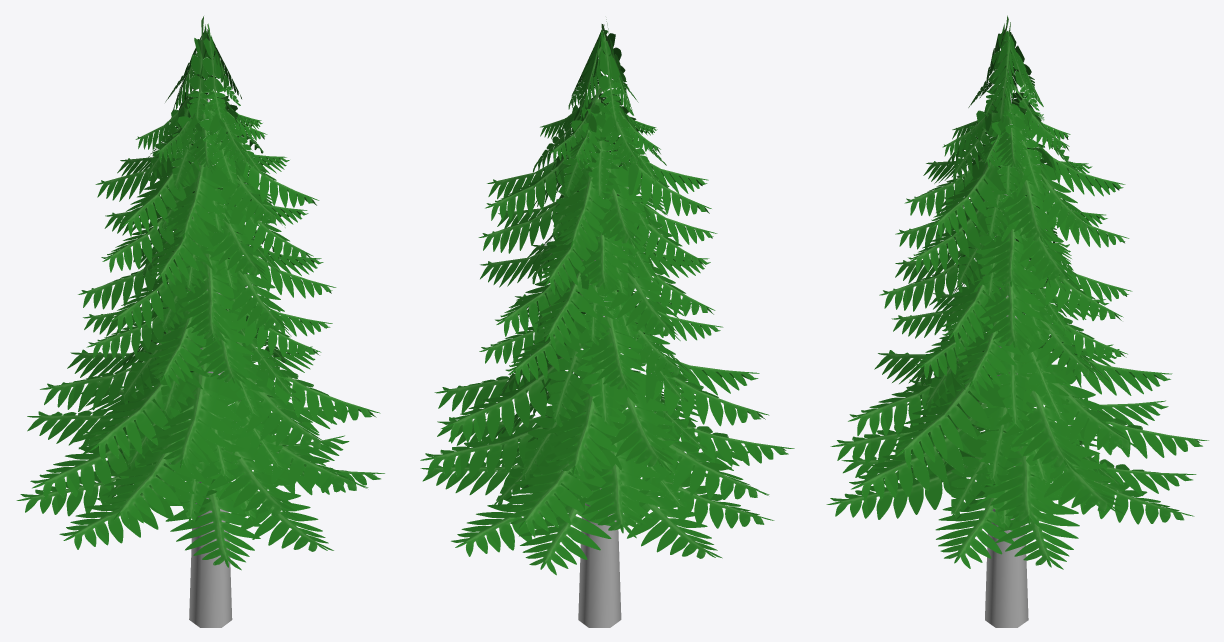
Rendered from PineTree.fbx.
3 renders of one model, left to right at view 1: azimuth 30°, elevation 25°; view 2: azimuth 150°, elevation 25°; view 3: azimuth 270°, elevation 25°, orthographic.
Parts seen in each view (by area): view 1: PineLeaves_LOD0, PineTree; view 2: PineLeaves_LOD0, PineTree; view 3: PineLeaves_LOD0, PineTree.
Part boxes in pixels (box(x1,y1,x2,y2)): PineLeaves_LOD0: box(16, 16, 384, 570); PineTree: box(189, 92, 232, 627); PineLeaves_LOD0: box(420, 19, 794, 575); PineTree: box(578, 97, 621, 627); PineLeaves_LOD0: box(826, 15, 1208, 569); PineTree: box(985, 93, 1028, 627).
Size of what is drawn, in the model's own units: 25.84 by 44.86 by 26.01.
